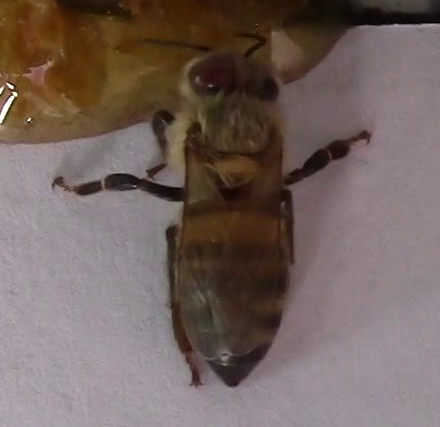Varroa destructor: (186, 55, 238, 94)
